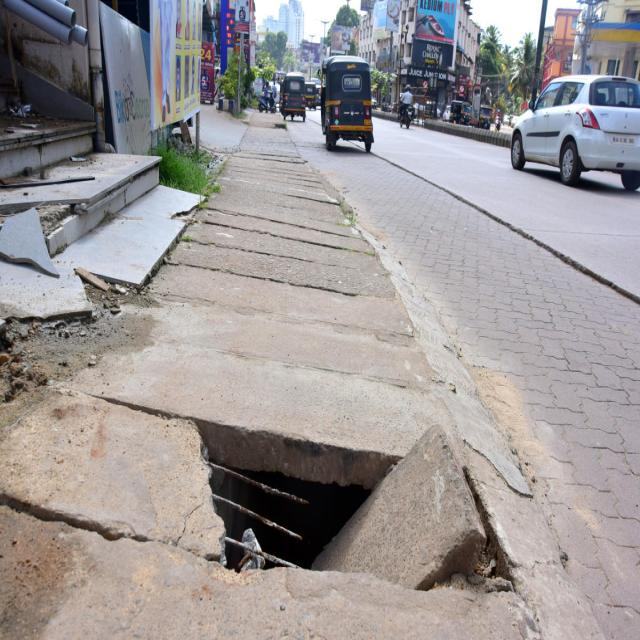Car: (512, 74, 640, 189)
